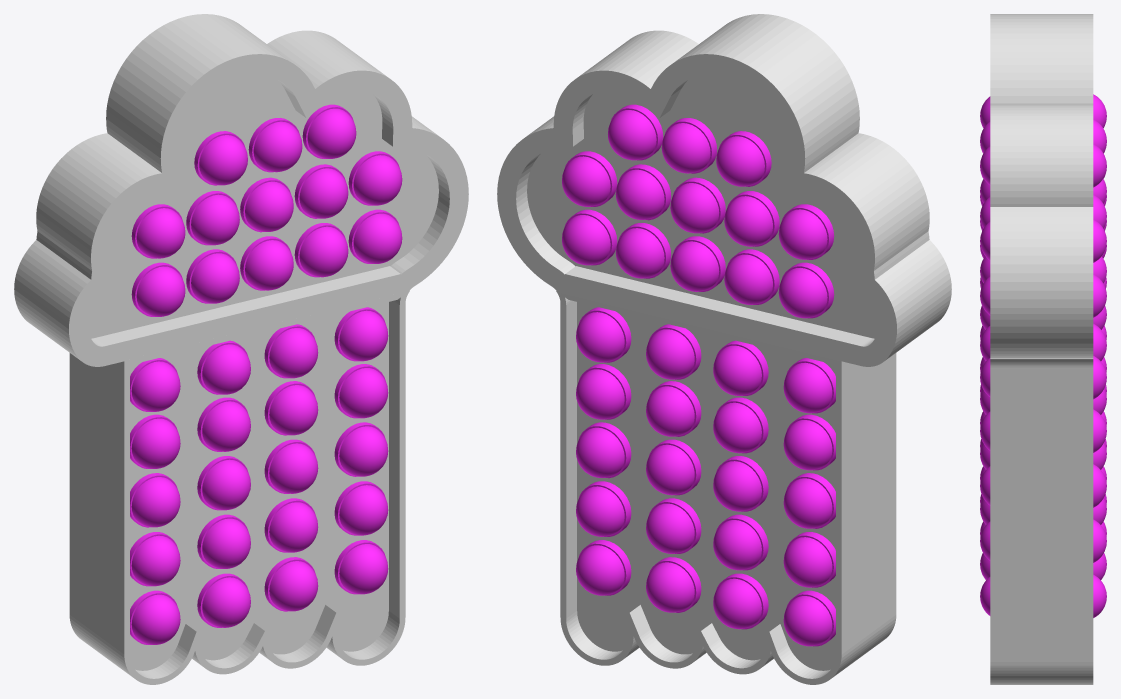
3 views of the same model, side by side, from view 1: azimuth 30°, elevation 25°; view 2: azimuth 150°, elevation 25°; view 3: azimuth 270°, elevation 25° (orthographic). The views are drawn at different scales.
Parts seen in each view (by area): view 1: Scene, Scene.001, Sphere.623, Sphere.622, Sphere.613, Sphere.642, Sphere.614, Sphere.637, Sphere.645, Sphere.616, Sphere.625, Sphere.634 (+23 smaller); view 2: Scene, Scene.001, Sphere.666, Sphere.654, Sphere.676, Sphere.650, Sphere.656, Sphere.646, Sphere.658, Sphere.661, Sphere.663, Sphere.649 (+23 smaller); view 3: Scene, Scene.001, Sphere.648, Sphere.653, Sphere.658, Sphere.675, Sphere.676, Sphere.677, Sphere.674, Sphere.678, Sphere.669, Sphere.646 (+24 smaller).
Part boxes in pixels (bbox=[...]): Scene: bbox=[14, 14, 468, 366]; Scene.001: bbox=[69, 289, 409, 684]; Sphere.623: bbox=[245, 240, 293, 290]; Sphere.622: bbox=[191, 253, 239, 303]; Sphere.613: bbox=[199, 135, 247, 185]; Sphere.642: bbox=[339, 368, 388, 418]; Sphere.614: bbox=[253, 121, 302, 172]; Sphere.637: bbox=[269, 385, 318, 435]; Sphere.645: bbox=[339, 544, 388, 594]; Sphere.616: bbox=[136, 208, 185, 258]; Sphere.625: bbox=[353, 213, 402, 263]; Sphere.634: bbox=[202, 518, 250, 568]; Scene: bbox=[497, 14, 951, 366]; Scene.001: bbox=[556, 290, 896, 684]; Sphere.666: bbox=[713, 461, 761, 511]; Sphere.654: bbox=[778, 268, 827, 318]; Sphere.676: bbox=[576, 427, 624, 477]; Sphere.650: bbox=[724, 196, 772, 246]; Sphere.656: bbox=[670, 241, 719, 291]; Sphere.646: bbox=[716, 136, 764, 186]; Sphere.658: bbox=[562, 215, 610, 265]; Sphere.661: bbox=[783, 478, 832, 528]; Sphere.663: bbox=[783, 596, 832, 646]; Sphere.649: bbox=[778, 209, 827, 259]; Scene: bbox=[990, 14, 1093, 357]; Scene.001: bbox=[990, 358, 1093, 684]; Sphere.648: bbox=[1093, 144, 1106, 187]; Sphere.653: bbox=[1093, 219, 1106, 262]; Sphere.658: bbox=[1093, 274, 1106, 317]; Sphere.675: bbox=[1093, 409, 1106, 452]; Sphere.676: bbox=[1093, 464, 1106, 507]; Sphere.677: bbox=[1093, 519, 1106, 562]; Sphere.674: bbox=[1093, 356, 1106, 399]; Sphere.678: bbox=[1093, 574, 1106, 617]; Sphere.669: bbox=[1093, 323, 1106, 360]; Sphere.646: bbox=[1093, 94, 1106, 128].
Size of the model in its own units: 16.65 by 25.44 by 4.87.
